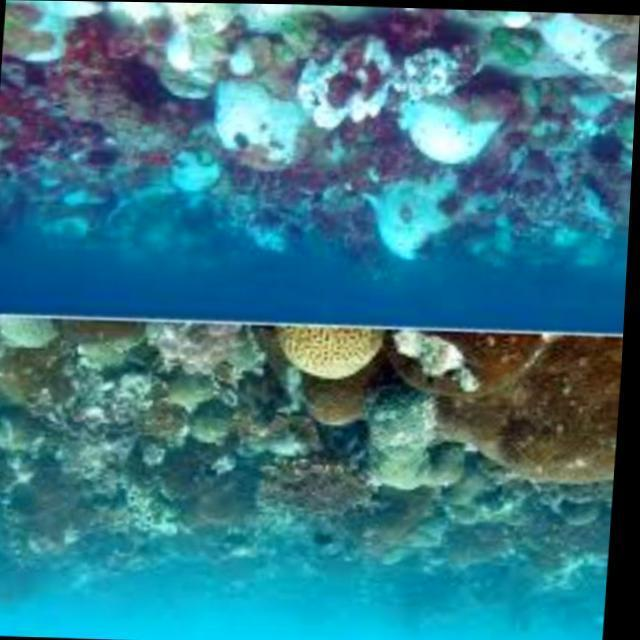Dead Coral: (2, 338, 392, 606)
